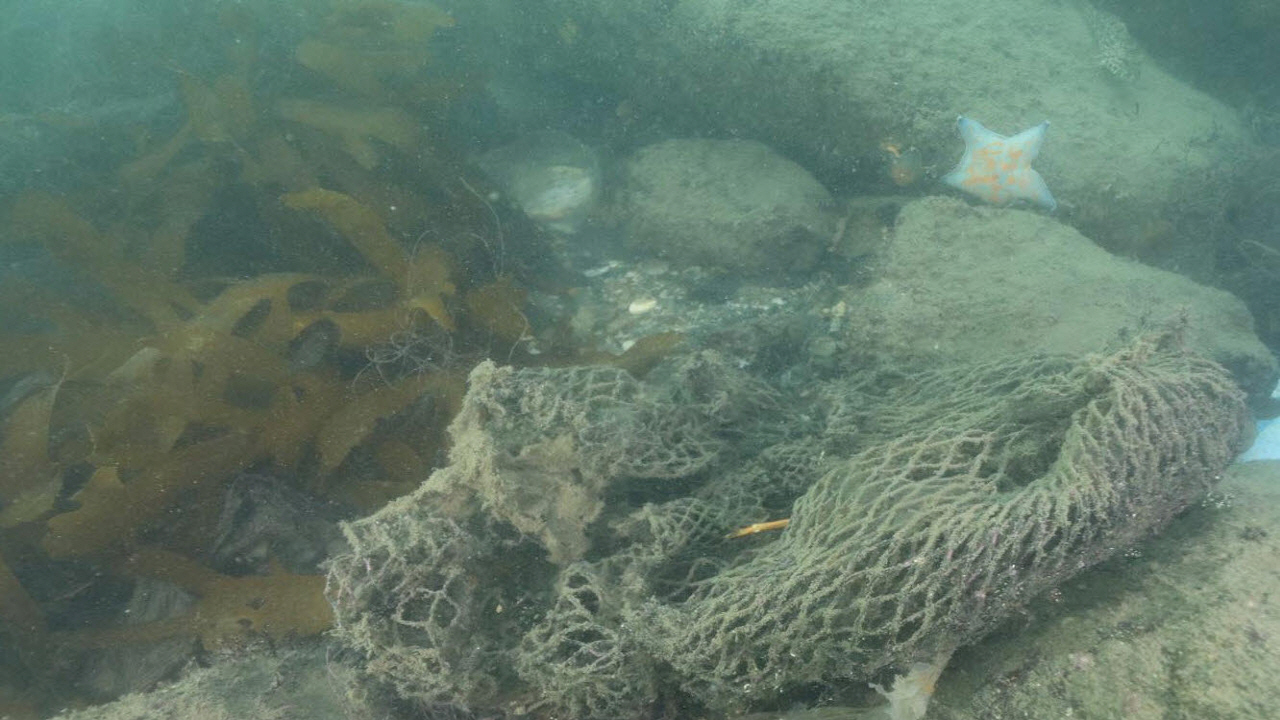fish net: (321, 347, 1253, 720)
